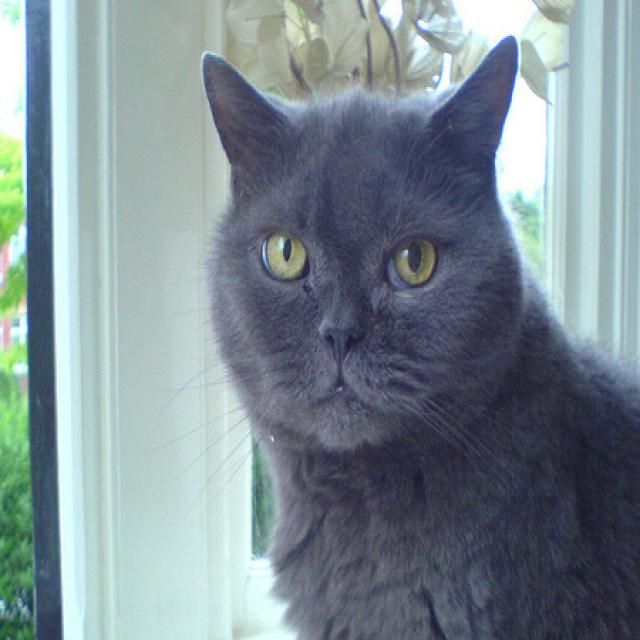British Shorthair: (199, 30, 640, 640)
